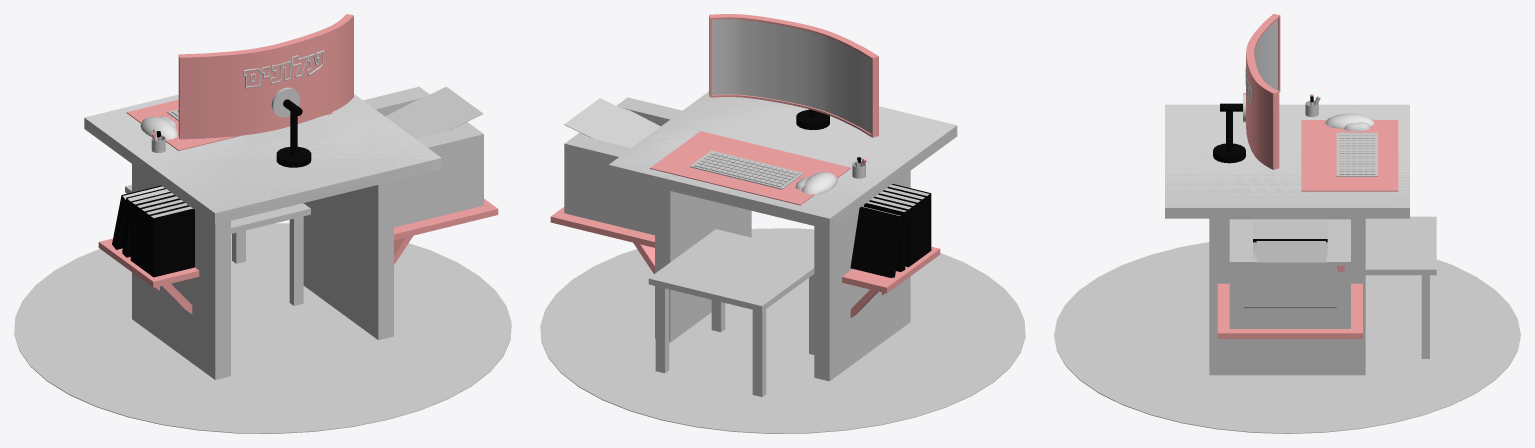
Rendered from table.gltf.
3 renders of one model, left to right at view 1: azimuth 30°, elevation 25°; view 2: azimuth 150°, elevation 25°; view 3: azimuth 270°, elevation 25°, orthographic. The views are drawn at different scales.
Parts seen in each view (by area): view 1: Cylinder.2, Cube.2 (×4), Cube.6 (×2), שטיח מחשב.1-Mat, Cube.5, מדפסת-Mat.1, ספר-Mat.2, Cube.9, שטיח מחשב, Cube.4, Sweep.1, Cylinder.5 (+6 smaller); view 2: Cylinder.2, Cube.2 (×4), שטיח מחשב.1-Mat.1, Cube.5, Cube.6 (×2), Cube.4, מדפסת-Mat.1, שטיח מחשב, ספר.6-Mat.2, שטיח מחשב.1-Mat, שטיח מחשב.3, Cube.11 (+7 smaller); view 3: Cylinder.2, Cube.2 (×3), מדפסת-Mat.1, Cube.6 (×2), שטיח מחשב, Cube.4, שטיח מחשב.1-Mat, שטיח מחשב.3, שטיח מחשב.1-Mat.1, שטיח מחשב.1, Cube.10, Cylinder.5 (+1 smaller).
Boxes of the visible parts, left/top/right/bottom form: Cylinder.2: left=14, top=223, right=511, bottom=433; Cube.2 (×4): left=84, top=94, right=498, bottom=287; Cube.6 (×2): left=303, top=86, right=483, bottom=340; שטיח מחשב.1-Mat: left=178, top=14, right=353, bottom=139; Cube.5: left=132, top=164, right=230, bottom=379; מדפסת-Mat.1: left=363, top=86, right=483, bottom=227; ספר-Mat.2: left=149, top=205, right=194, bottom=277; Cube.9: left=289, top=216, right=303, bottom=305; שטיח מחשב: left=126, top=99, right=332, bottom=150; Cube.4: left=125, top=184, right=310, bottom=233; Sweep.1: left=243, top=50, right=323, bottom=88; Cylinder.5: left=276, top=146, right=311, bottom=167; Cylinder.2: left=540, top=228, right=1025, bottom=433; Cube.2 (×4): left=550, top=91, right=957, bottom=293; שטיח מחשב.1-Mat.1: left=712, top=19, right=871, bottom=133; Cube.5: left=814, top=171, right=910, bottom=381; Cube.6 (×2): left=564, top=98, right=751, bottom=342; Cube.4: left=648, top=229, right=814, bottom=311; מדפסת-Mat.1: left=564, top=97, right=681, bottom=235; שטיח מחשב: left=650, top=131, right=850, bottom=205; ספר.6-Mat.2: left=850, top=206, right=903, bottom=277; שטיח מחשב.1-Mat: left=709, top=14, right=878, bottom=137; שטיח מחשב.3: left=694, top=151, right=799, bottom=187; Cube.11: left=752, top=309, right=766, bottom=396; Cylinder.2: left=1054, top=242, right=1520, bottom=433; Cube.2 (×3): left=1165, top=104, right=1409, bottom=338; מדפסת-Mat.1: left=1229, top=219, right=1350, bottom=328; Cube.6 (×2): left=1209, top=218, right=1365, bottom=375; שטיח מחשב: left=1301, top=120, right=1398, bottom=191; Cube.4: left=1365, top=216, right=1436, bottom=275; שטיח מחשב.1-Mat: left=1246, top=14, right=1280, bottom=169; שטיח מחשב.3: left=1339, top=133, right=1375, bottom=174; שטיח מחשב.1-Mat.1: left=1254, top=19, right=1277, bottom=90; שטיח מחשב.1: left=1336, top=132, right=1377, bottom=176; Cube.10: left=1421, top=275, right=1429, bottom=358; Cylinder.5: left=1213, top=143, right=1245, bottom=163.
Bounding box in the file's own units: 476 × 315 × 476.
